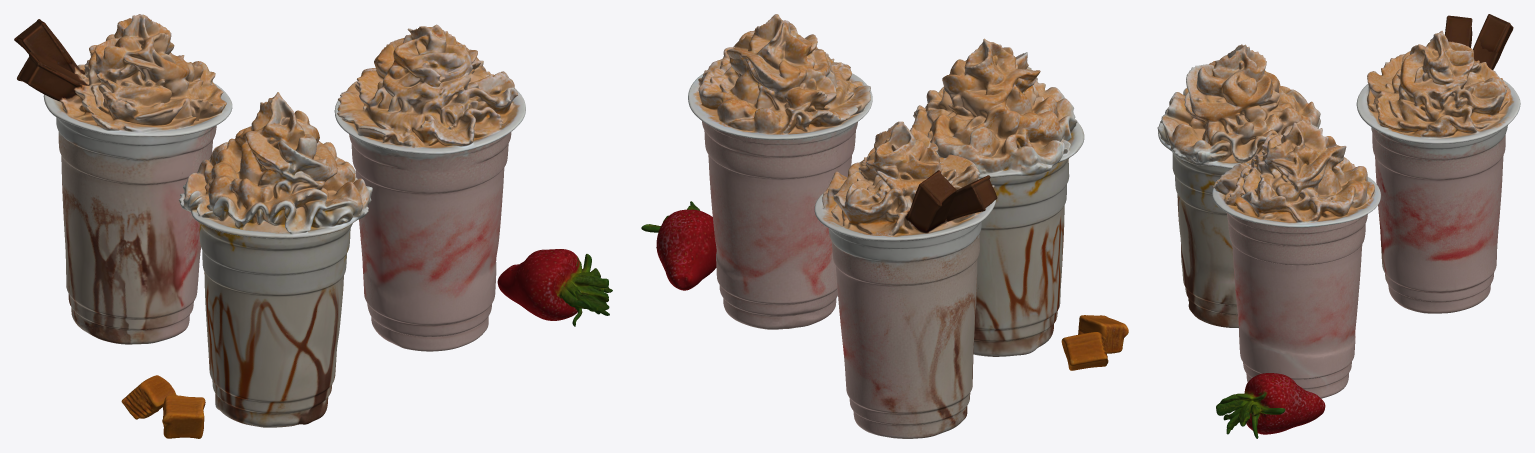
File: milkshake+3d+model.glb
3 renders of one model, left to right at view 1: azimuth 30°, elevation 25°; view 2: azimuth 150°, elevation 25°; view 3: azimuth 270°, elevation 25°, orthographic. The views are drawn at different scales.
Parts seen in each view (by area): view 1: tripo_node_01fedf0a-7fc1-43be-9610-57158207a8a4; view 2: tripo_node_01fedf0a-7fc1-43be-9610-57158207a8a4; view 3: tripo_node_01fedf0a-7fc1-43be-9610-57158207a8a4.
Boxes of the visible parts, <box> form: tripo_node_01fedf0a-7fc1-43be-9610-57158207a8a4: <box>14,14,612,438</box>; tripo_node_01fedf0a-7fc1-43be-9610-57158207a8a4: <box>641,14,1128,438</box>; tripo_node_01fedf0a-7fc1-43be-9610-57158207a8a4: <box>1157,14,1520,438</box>.
Bounding box in the file's own units: 0.9793 × 0.6138 × 0.7482.
1 material, 1 textured.
